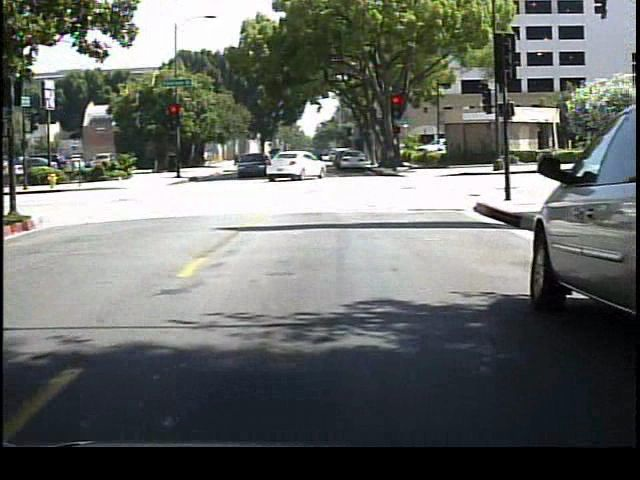person: (309, 143, 326, 178)
